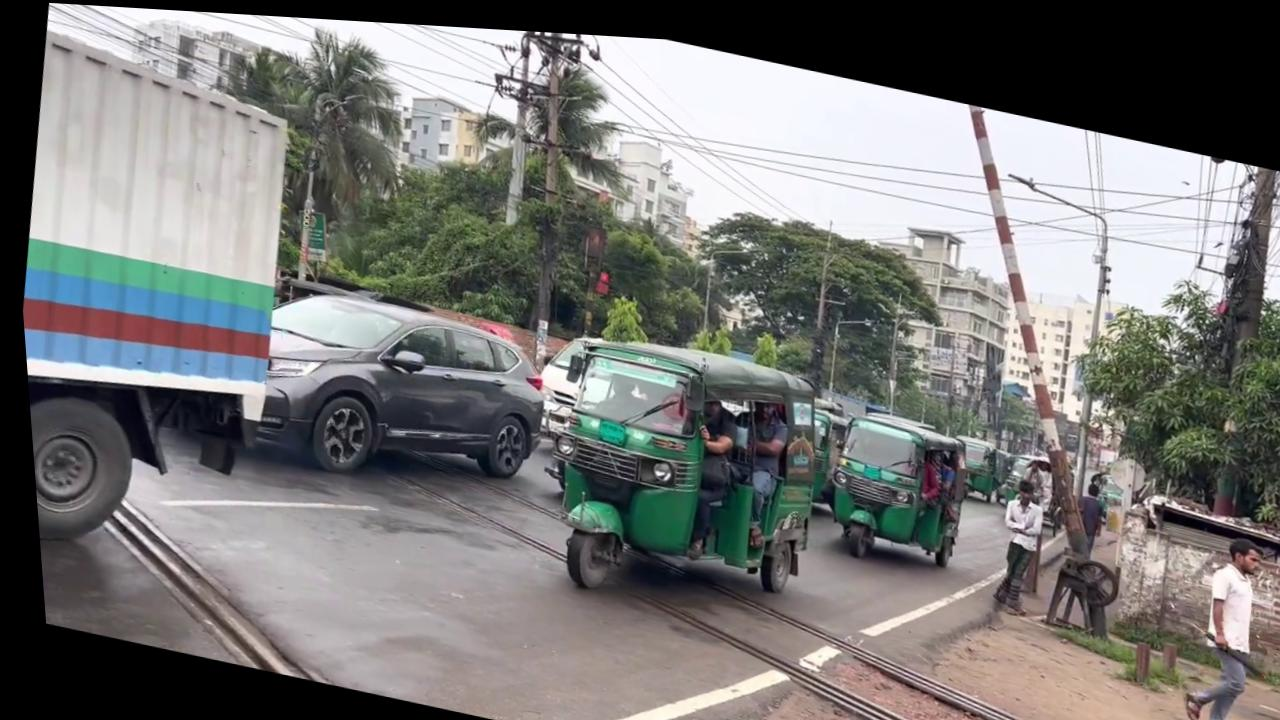Bench: (511, 309, 836, 627)
Bollard: (230, 264, 558, 512)
Car: (74, 490, 335, 678)
Fence: (1159, 511, 1269, 720), (655, 379, 744, 559), (709, 385, 793, 544), (976, 461, 1047, 607), (1060, 466, 1103, 548)
Garbage: (901, 89, 1149, 547), (1181, 144, 1280, 509)
Motorcycle: (342, 440, 1280, 720)
Railroad-crossing: (432, 28, 659, 345), (189, 9, 430, 290)
Rickshaw: (1, 23, 324, 586)
